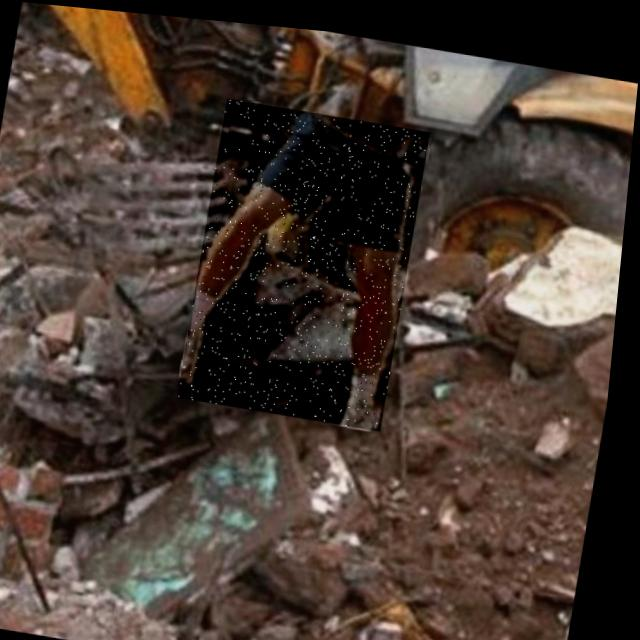Person in Rubble: (183, 91, 433, 424)
